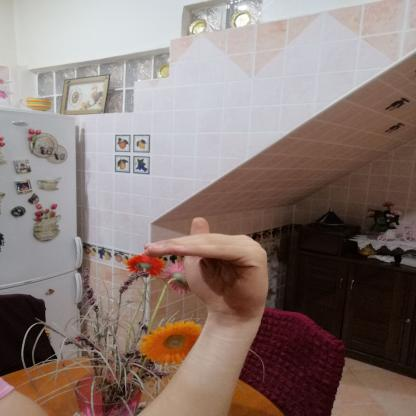KHAA: (122, 205, 284, 333)
